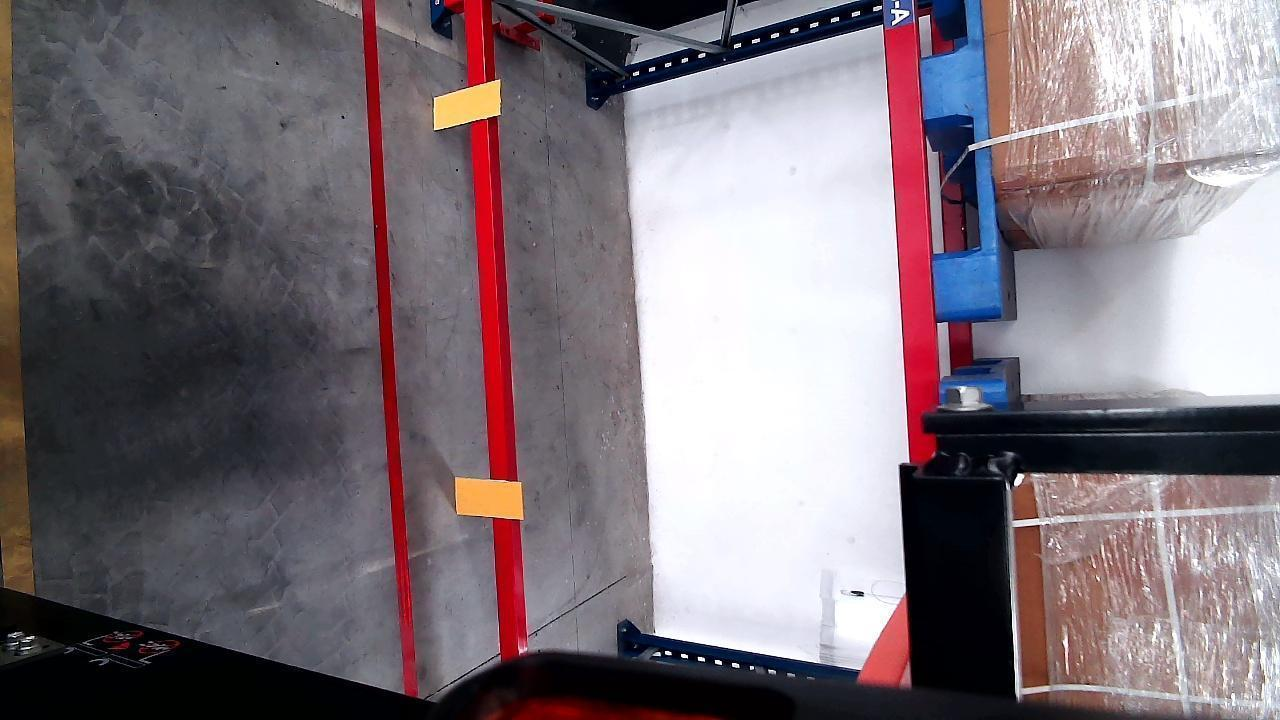red_line: (365, 0, 417, 701)
yellow_line: (0, 17, 30, 590)
